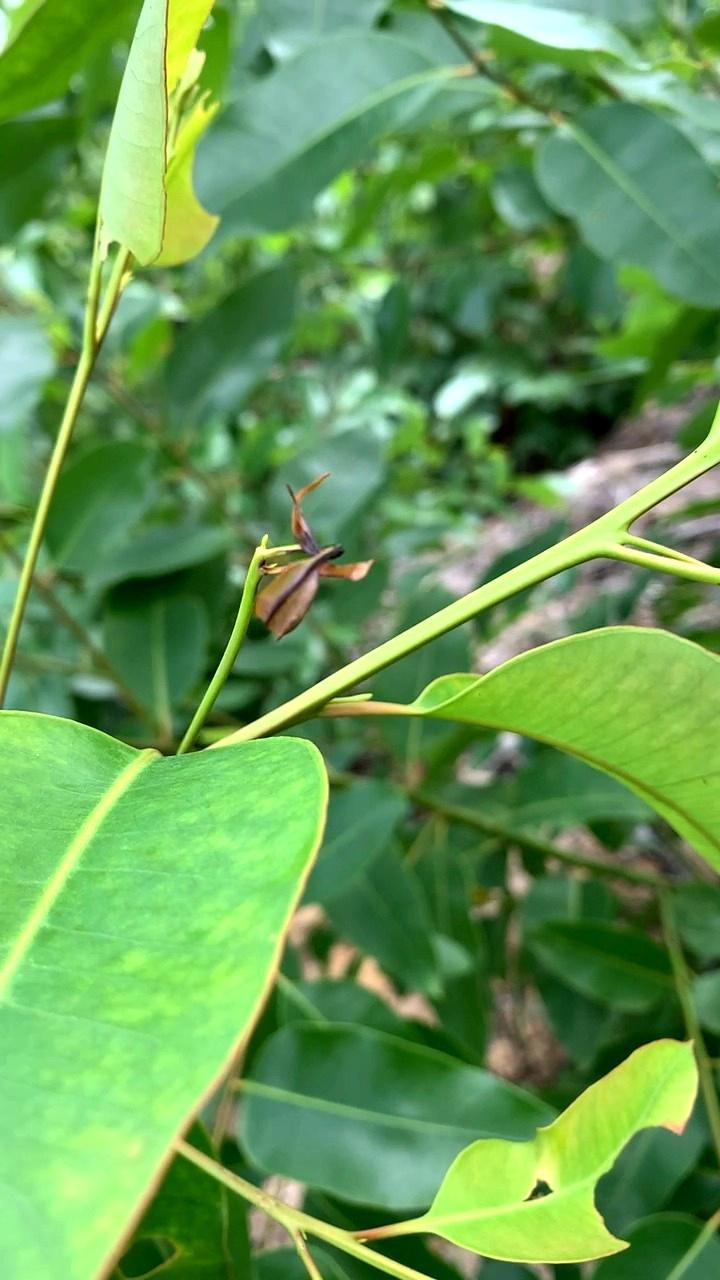Helopeltis-Withered Sprout: (238, 480, 391, 638)
